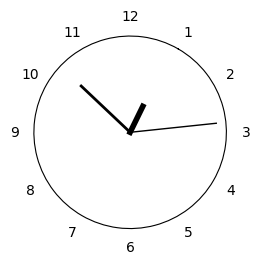12: (122, 10, 138, 22)
circle: (34, 36, 227, 228)
hours: (127, 104, 146, 136)
minutes: (79, 84, 127, 130)
seconds: (135, 123, 217, 132)
